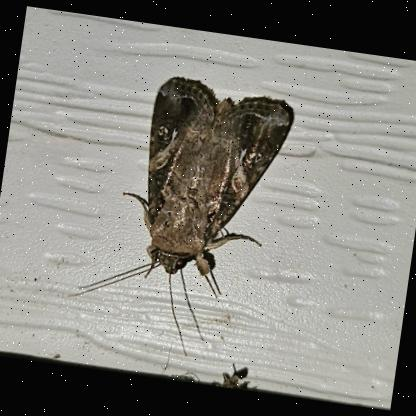Fall Armyworm Moth: (70, 64, 300, 350)
